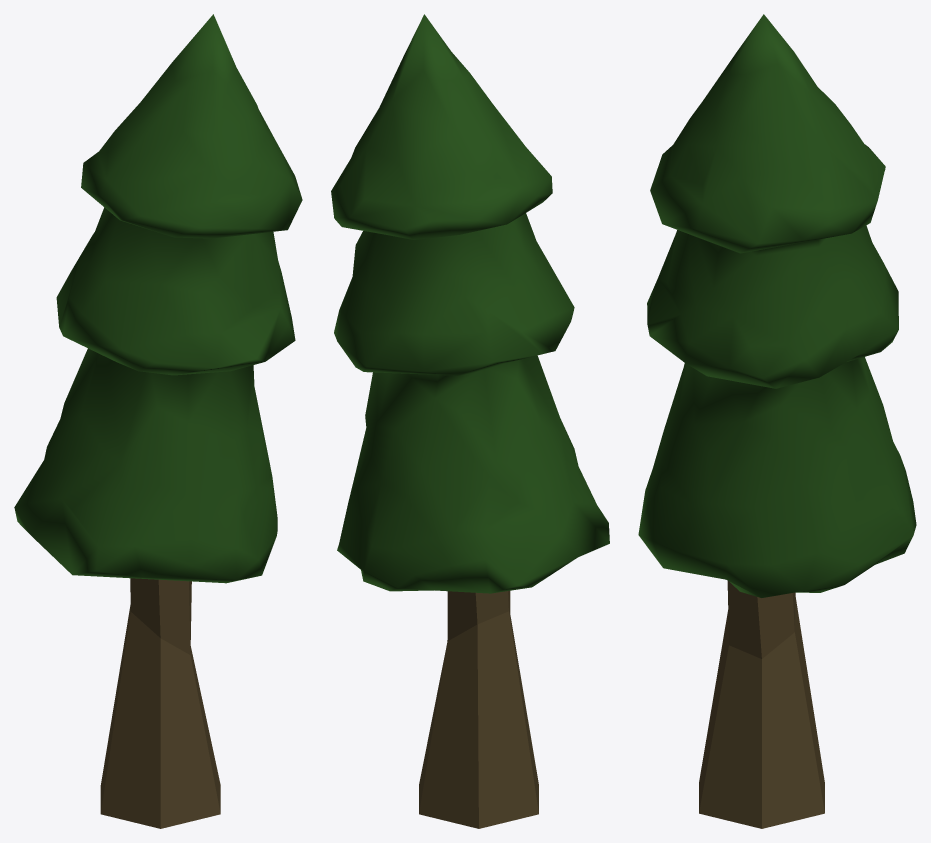
The model's file is PineTree3.fbx.
The picture shows the model from 3 angles, left to right: view 1: azimuth 30°, elevation 25°; view 2: azimuth 150°, elevation 25°; view 3: azimuth 270°, elevation 25°; orthographic projection. The views are drawn at different scales.
Parts seen in each view (by area): view 1: Tree5; view 2: Tree5; view 3: Tree5.
Part boxes in pixels (left/top/right/bottom): Tree5: left=14, top=14, right=302, bottom=828; Tree5: left=331, top=14, right=609, bottom=828; Tree5: left=638, top=14, right=916, bottom=828.
Bounding box in the file's own units: 1.98 × 5.85 × 1.82.
